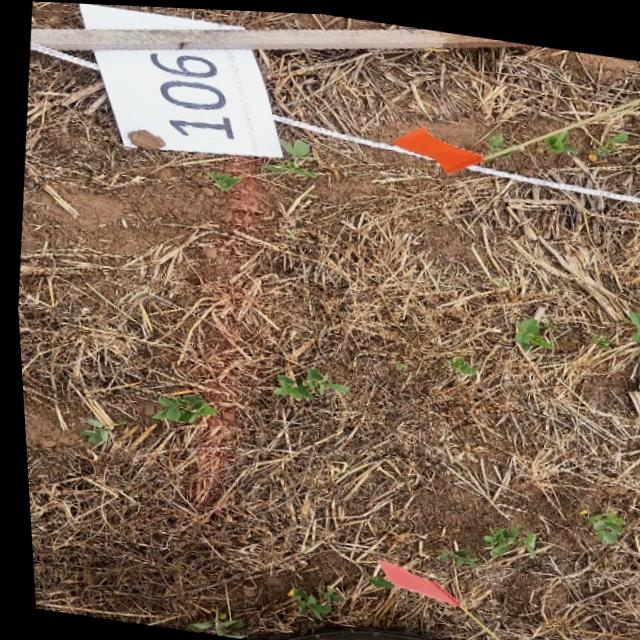soy_plant: (179, 582, 239, 637), (269, 364, 344, 396), (263, 135, 316, 174), (280, 583, 334, 617), (477, 519, 529, 553), (147, 393, 211, 420), (581, 504, 618, 537), (511, 312, 548, 344), (429, 543, 475, 562), (593, 124, 626, 149), (73, 416, 103, 442), (204, 168, 238, 188), (543, 125, 574, 145), (442, 351, 471, 370), (625, 304, 640, 335), (586, 327, 607, 343), (486, 127, 501, 147)
